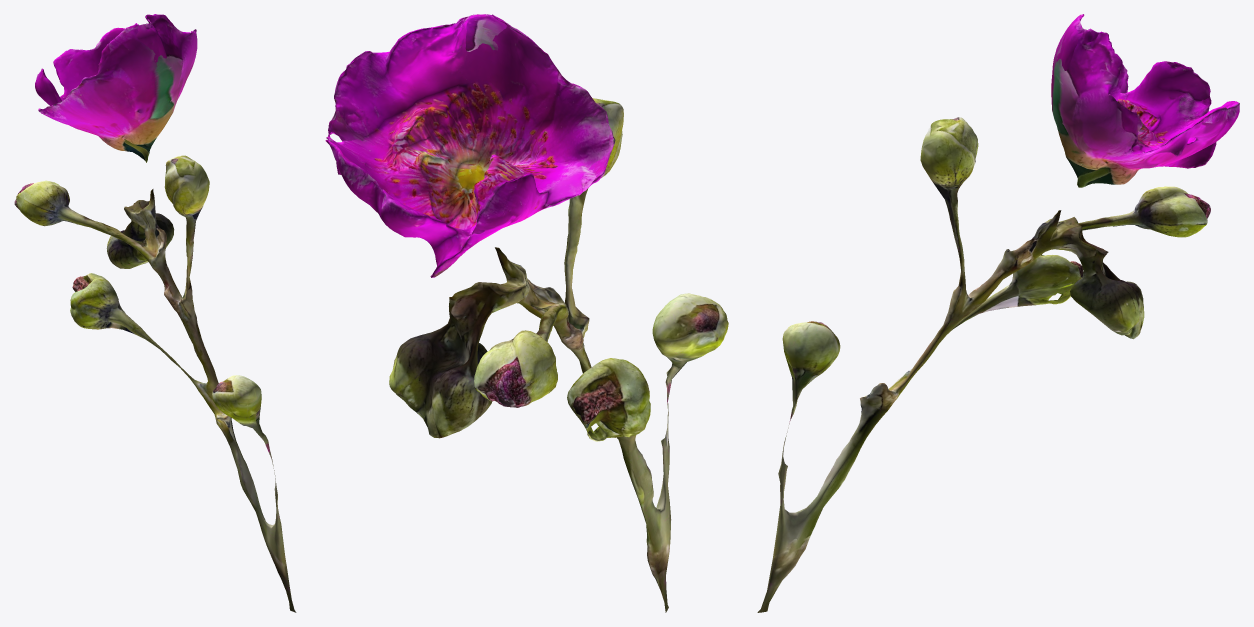
File: pnk.obj
3 renders of one model, left to right at view 1: azimuth 30°, elevation 25°; view 2: azimuth 150°, elevation 25°; view 3: azimuth 270°, elevation 25°, orthographic. The views are drawn at different scales.
Visible parts, largest first — view 1: Mesh_0; view 2: Mesh_0; view 3: Mesh_0.
Boxes of the visible parts, x1,y1,x2,y2 form: Mesh_0: [14, 14, 296, 612]; Mesh_0: [325, 14, 728, 612]; Mesh_0: [757, 14, 1239, 612].
Bounding box in the file's own units: 0.0407 × 0.1165 × 0.0873.
